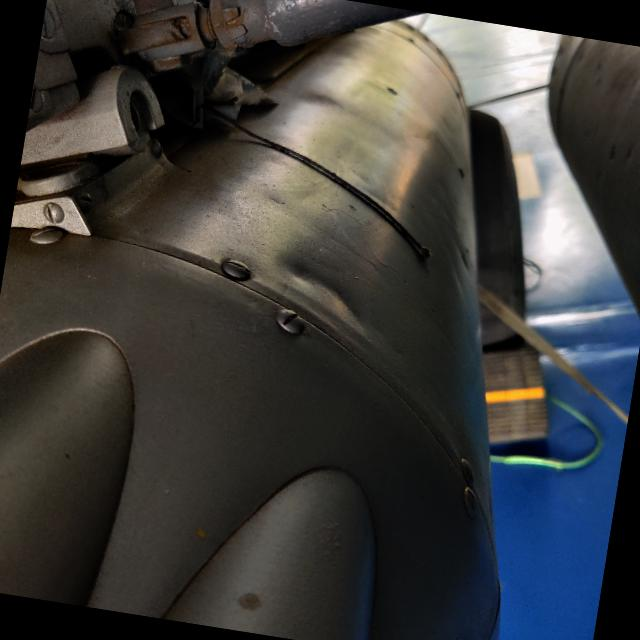dent: (263, 242, 390, 354)
